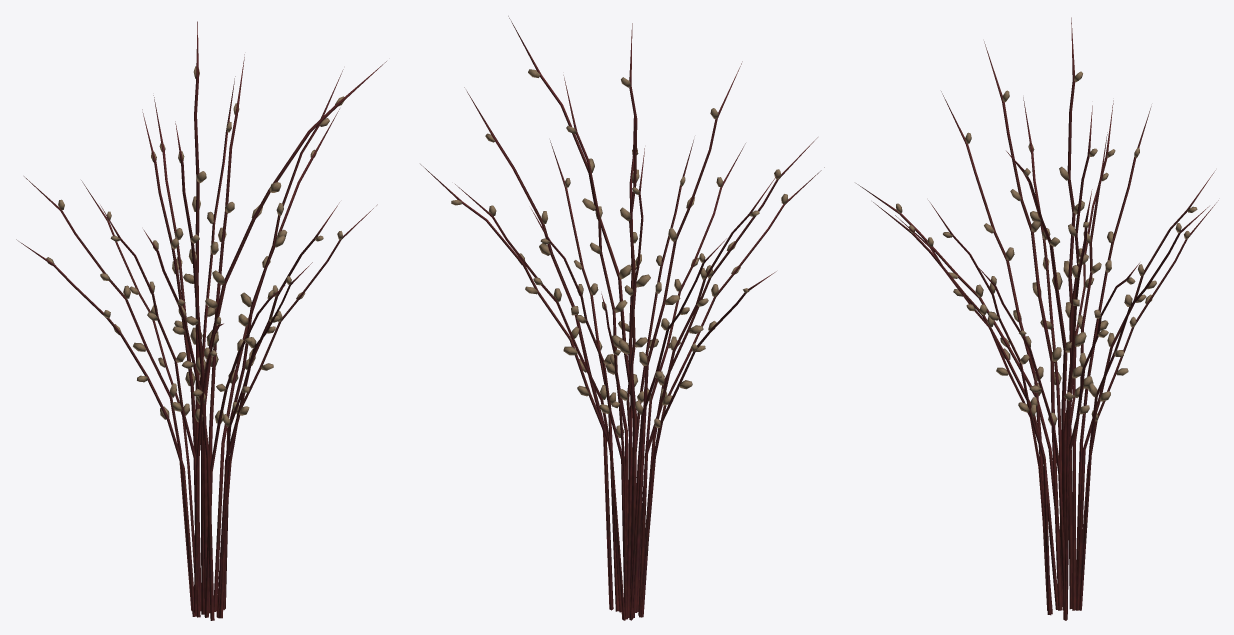
The model's file is jarTwig01.FBX.
The picture shows the model from 3 angles, left to right: view 1: azimuth 30°, elevation 25°; view 2: azimuth 150°, elevation 25°; view 3: azimuth 270°, elevation 25°; orthographic projection.
Parts seen in each view (by area): view 1: SM_JarTwig01; view 2: SM_JarTwig01; view 3: SM_JarTwig01.
Boxes of the visible parts, x1,y1,x2,y2 form: SM_JarTwig01: [16, 21, 386, 620]; SM_JarTwig01: [420, 16, 824, 620]; SM_JarTwig01: [856, 17, 1218, 620].
Bounding box in the file's own units: 81 × 135 × 75.31.
1 material, 1 textured.
